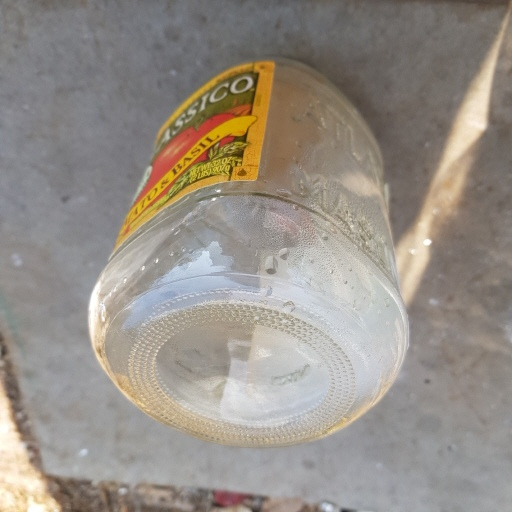Glass_5: (84, 57, 416, 445)
